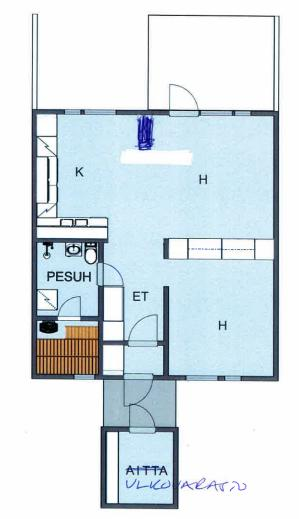bathroom: (37, 240, 99, 319)
door: (122, 371, 155, 409), (167, 82, 200, 117), (127, 313, 159, 349), (127, 403, 157, 436), (95, 261, 126, 287), (56, 294, 84, 321)
perimeter: (33, 108, 279, 382), (99, 425, 179, 510)
window: (197, 105, 235, 118), (183, 372, 222, 383), (81, 107, 119, 116), (60, 105, 85, 118), (219, 373, 248, 384), (74, 372, 98, 383), (232, 108, 253, 119)
